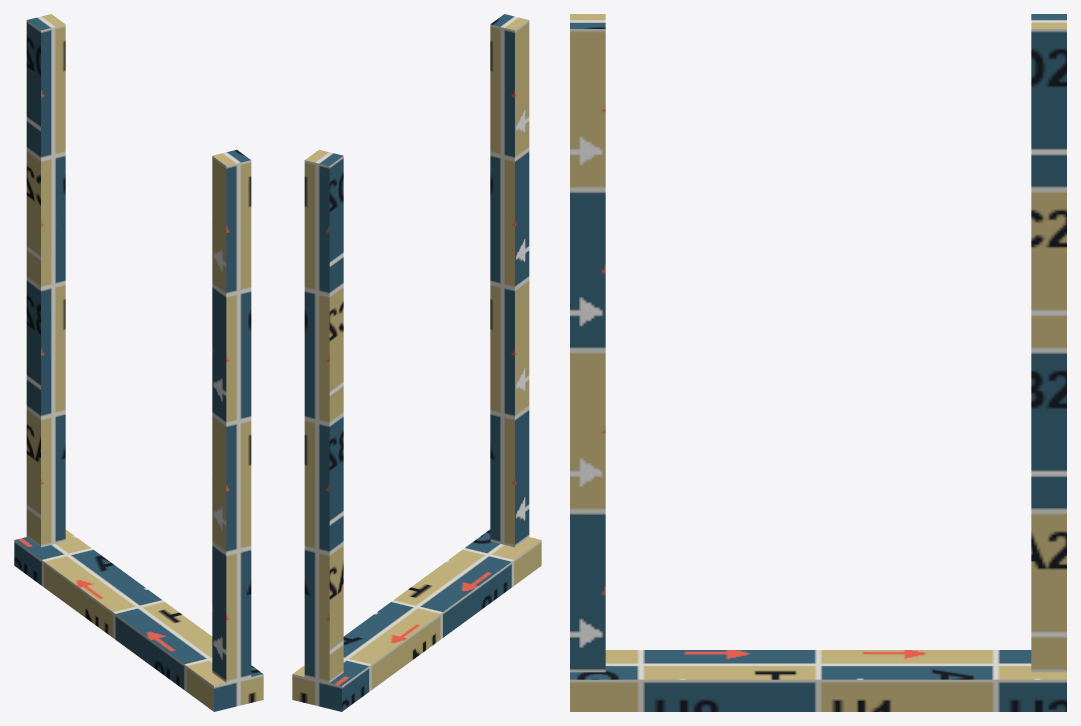
The model's file is DUCT_Hanger.fbx.
3 renders of one model, left to right at view 1: azimuth 30°, elevation 25°; view 2: azimuth 150°, elevation 25°; view 3: azimuth 270°, elevation 25°, orthographic. The views are drawn at different scales.
Visible parts, largest first — view 1: DUCT_Hanger; view 2: DUCT_Hanger; view 3: DUCT_Hanger.
Part boxes in pixels (x1,y1,x2,y2): DUCT_Hanger: (14, 14, 263, 711); DUCT_Hanger: (292, 14, 541, 711); DUCT_Hanger: (570, 14, 1066, 711).
Size of the model in its own units: 10 by 105 by 70.
Materials: 1 (1 with a texture image).
